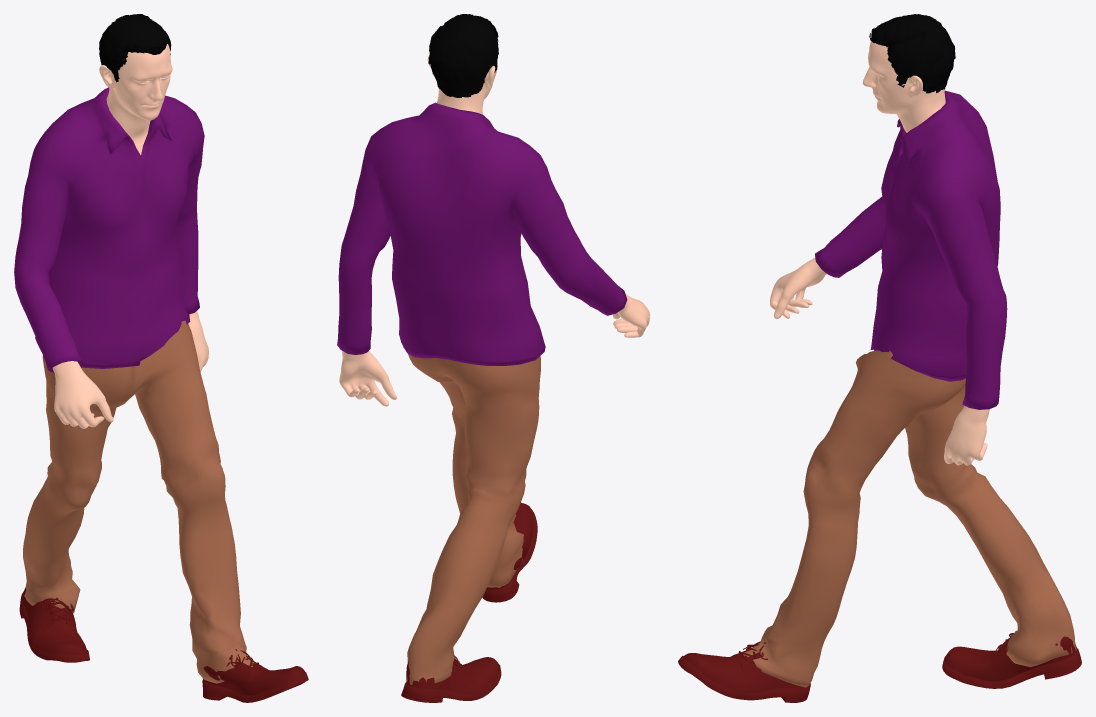
File: Man_10_Walking-transformed.glb
3 renders of one model, left to right at view 1: azimuth 30°, elevation 25°; view 2: azimuth 150°, elevation 25°; view 3: azimuth 270°, elevation 25°, orthographic. The views are drawn at different scales.
Parts seen in each view (by area): view 1: Tops.002, Bottoms.002, Body.002, Shoes.002, Hair.002; view 2: Tops.002, Bottoms.002, Hair.002, Shoes.002, Body.002; view 3: Bottoms.002, Tops.002, Shoes.002, Body.002, Hair.002.
Part boxes in pixels (bbox=[...]): Tops.002: bbox=[14, 87, 204, 372]; Bottoms.002: bbox=[23, 320, 254, 683]; Body.002: bbox=[53, 44, 208, 428]; Shoes.002: bbox=[19, 587, 308, 702]; Hair.002: bbox=[99, 14, 171, 82]; Tops.002: bbox=[337, 102, 627, 365]; Bottoms.002: bbox=[406, 354, 540, 684]; Hair.002: bbox=[428, 14, 498, 97]; Shoes.002: bbox=[401, 502, 537, 702]; Body.002: bbox=[339, 55, 649, 406]; Bottoms.002: bbox=[743, 350, 1076, 687]; Tops.002: bbox=[815, 90, 1007, 409]; Shoes.002: bbox=[678, 630, 1081, 702]; Body.002: bbox=[770, 41, 989, 465]; Hair.002: bbox=[869, 14, 955, 93].
Bounding box in the file's own units: 0.6726 × 1.81 × 0.976.
